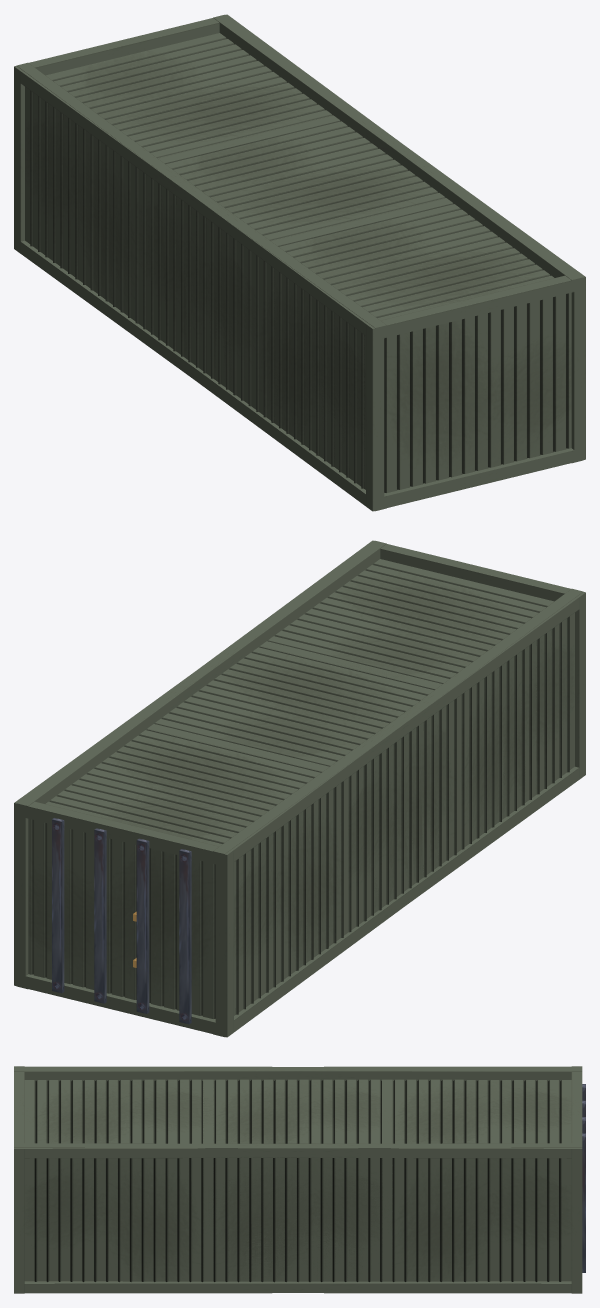
Rendered from container xanh.fbx.
3 renders of one model, top to bottom at view 1: azimuth 30°, elevation 25°; view 2: azimuth 150°, elevation 25°; view 3: azimuth 270°, elevation 25°, orthographic. The views are drawn at different scales.
Visible parts, largest first — view 1: Plane.061; view 2: Plane.061; view 3: Plane.061.
Part boxes in pixels (left/top/right/bottom): Plane.061: left=14, top=14, right=585, bottom=511; Plane.061: left=14, top=540, right=585, bottom=1037; Plane.061: left=14, top=1066, right=585, bottom=1293.
Bounding box in the file's own units: 595 × 488 × 1745.
